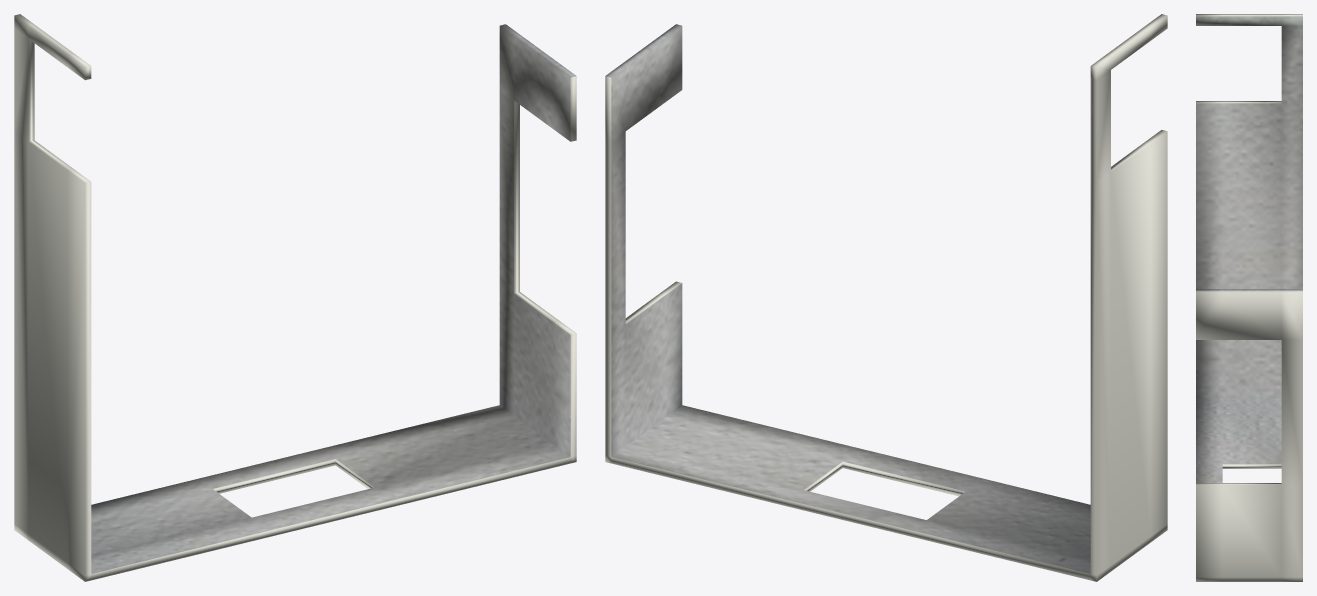
Rendered from wall_dining_v2.fbx.
3 renders of one model, left to right at view 1: azimuth 30°, elevation 25°; view 2: azimuth 150°, elevation 25°; view 3: azimuth 270°, elevation 25°, orthographic. The views are drawn at different scales.
Parts seen in each view (by area): view 1: Cube.001; view 2: Cube.001; view 3: Cube.001.
Boxes of the visible parts, left/top/right/bottom form: Cube.001: left=14, top=14, right=576, bottom=581; Cube.001: left=605, top=14, right=1167, bottom=581; Cube.001: left=1196, top=14, right=1302, bottom=581.
Size of the model in its own units: 0.04 by 0.04 by 0.01.
